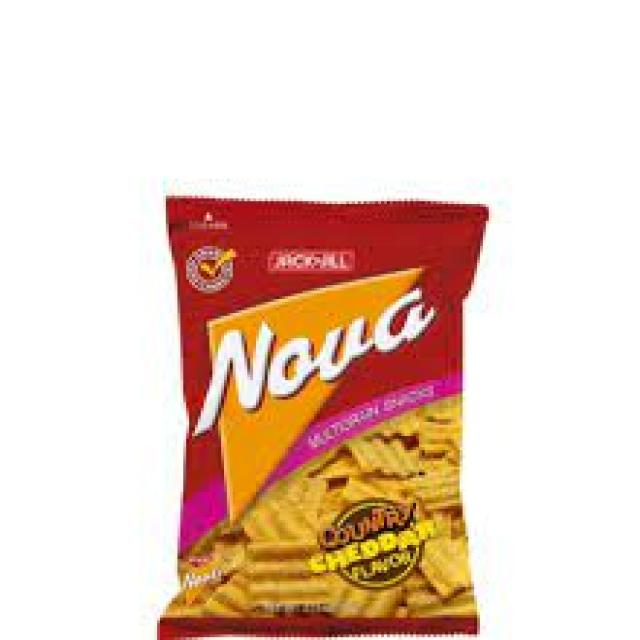junkfood wrapper: (157, 198, 485, 639)
